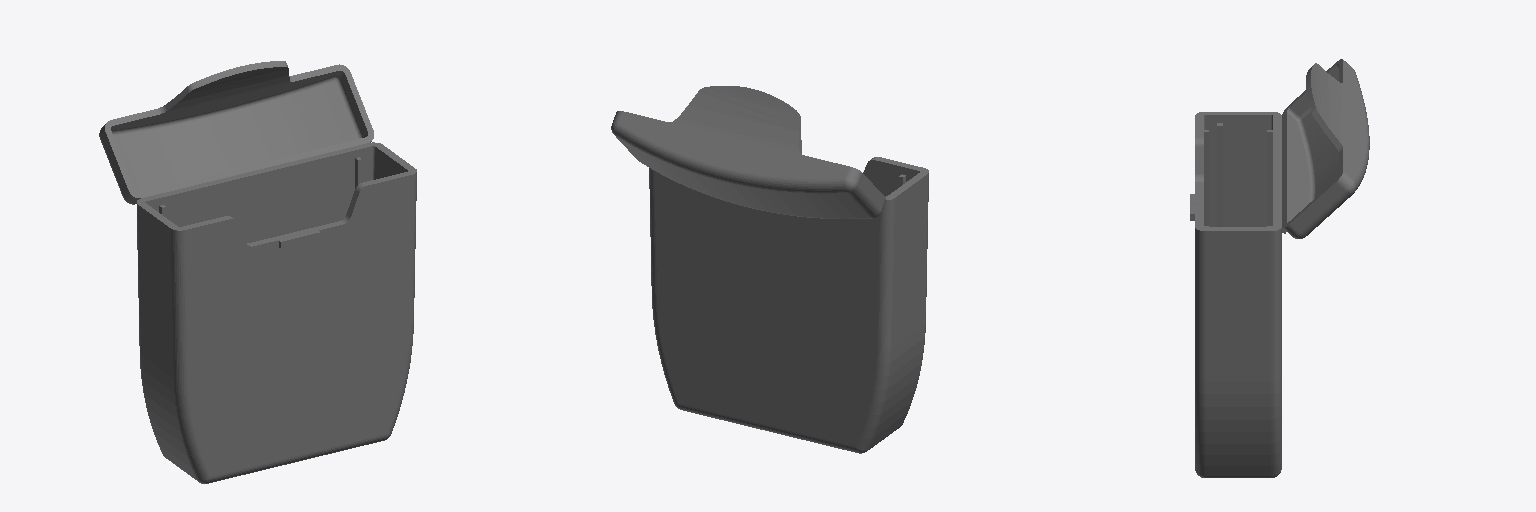
The model's file is 15909_Dental_Floss_Case.obj.
3 views of the same model, side by side, from view 1: azimuth 30°, elevation 25°; view 2: azimuth 150°, elevation 25°; view 3: azimuth 270°, elevation 25° (orthographic).
Visible parts, largest first — view 1: obj0; view 2: obj0; view 3: obj0.
Boxes of the visible parts, x1=… form: obj0: x1=99, y1=61, x2=416, y2=483; obj0: x1=611, y1=86, x2=928, y2=453; obj0: x1=1190, y1=59, x2=1369, y2=477.
Bounding box in the file's own units: 1.95 × 2.71 × 1.24.